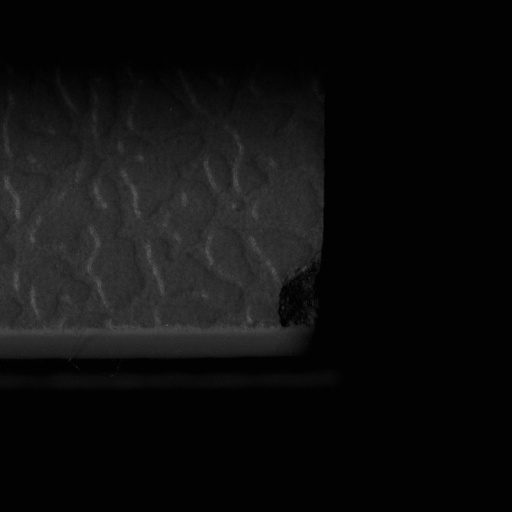bengque: (275, 257, 324, 332)
